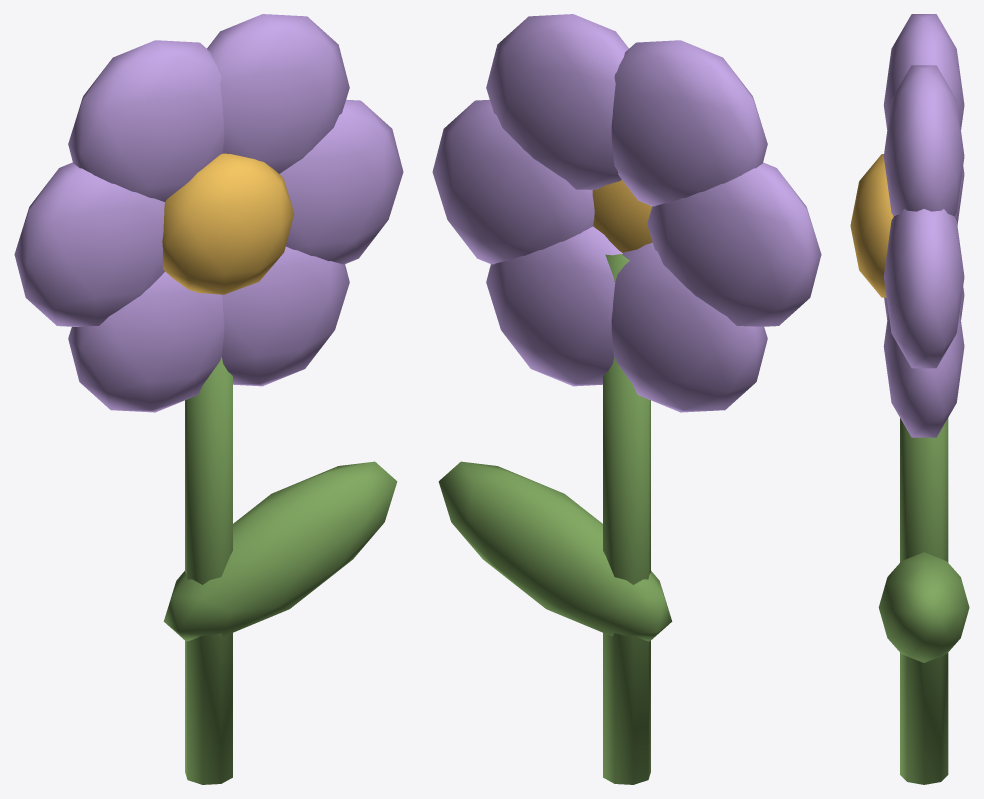
File: garden-flower-violet.glb
The picture shows the model from 3 angles, left to right: view 1: azimuth 30°, elevation 25°; view 2: azimuth 150°, elevation 25°; view 3: azimuth 270°, elevation 25°; orthographic projection. The views are drawn at different scales.
Parts seen in each view (by area): view 1: garden-flower-violet_Petal violet, garden-flower-violet_leaf, Golden pollen; view 2: garden-flower-violet_Petal violet, garden-flower-violet_leaf, Golden pollen; view 3: garden-flower-violet_Petal violet, garden-flower-violet_leaf, Golden pollen.
Part boxes in pixels (<box>): garden-flower-violet_Petal violet: <box>14,14,403,412</box>; garden-flower-violet_leaf: <box>163,357,397,784</box>; Golden pollen: <box>162,153,294,294</box>; garden-flower-violet_Petal violet: <box>432,14,821,412</box>; garden-flower-violet_leaf: <box>438,254,672,784</box>; Golden pollen: <box>592,180,652,252</box>; garden-flower-violet_Petal violet: <box>883,14,964,437</box>; garden-flower-violet_leaf: <box>878,418,969,784</box>; Golden pollen: <box>850,154,893,297</box>.
Size of the model in its own units: 0.4207 by 0.7989 by 0.118.
